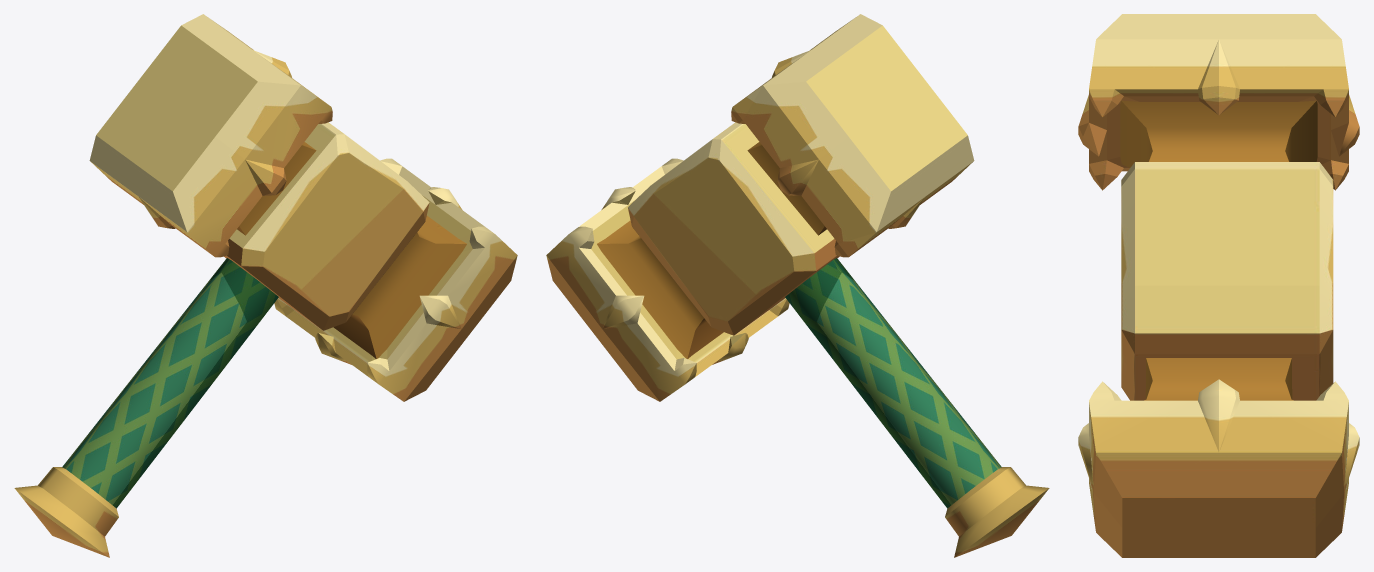
The model's file is elf_04.FBX.
3 views of the same model, side by side, from view 1: azimuth 30°, elevation 25°; view 2: azimuth 150°, elevation 25°; view 3: azimuth 270°, elevation 25° (orthographic). The views are drawn at different scales.
Parts seen in each view (by area): view 1: elf_04; view 2: elf_04; view 3: elf_04.
Part boxes in pixels (x1,y1,x2,y2): elf_04: (14, 14, 517, 557); elf_04: (546, 14, 1049, 557); elf_04: (1078, 14, 1359, 557).
Size of the model in its own units: 69.5 by 69.27 by 29.79.
